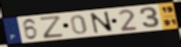0: (69, 14, 89, 35)
2: (117, 8, 140, 33)
3: (138, 6, 161, 29)
6: (22, 18, 40, 40)
N: (89, 11, 115, 34)
Z: (38, 15, 66, 40)
